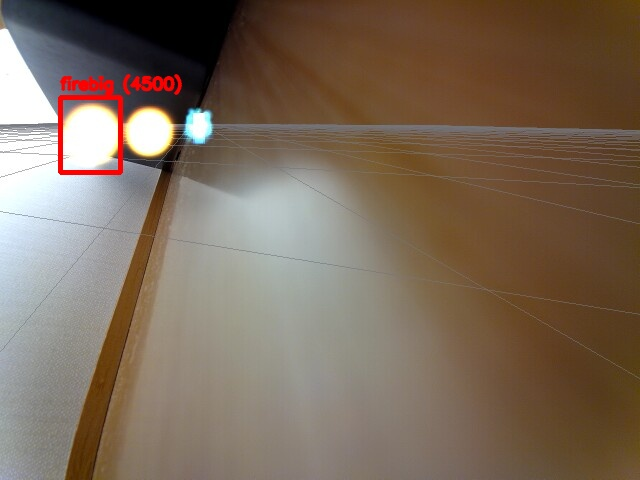firebig: (60, 97, 120, 172)
